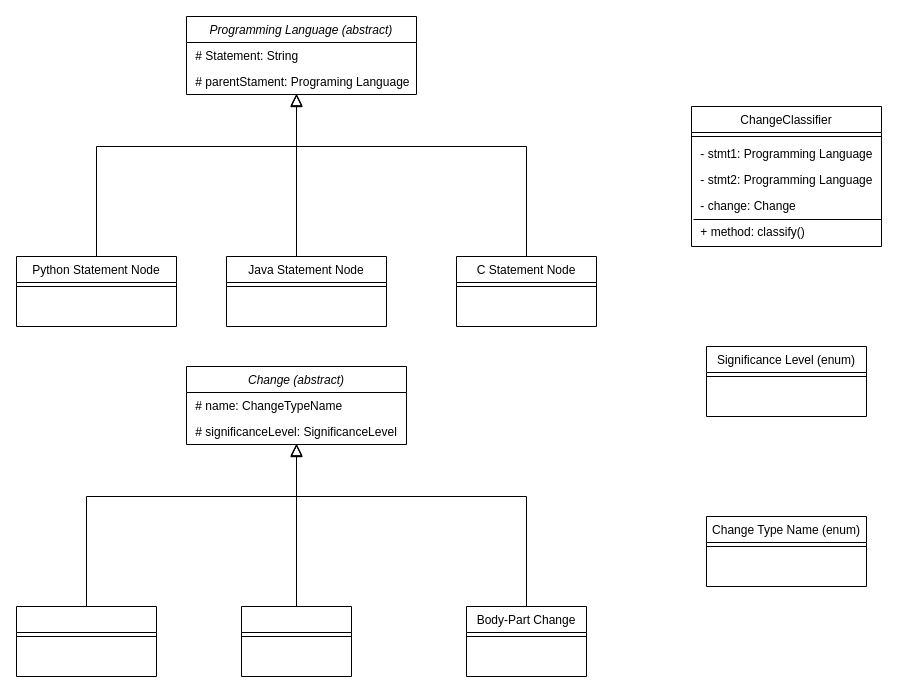
Image size: 898x693. Some labels were removed from this diagram. The centre of each missing label's shape, as x and y in pixels:
Declarative Change: [86,641]
No Change: [296,641]
